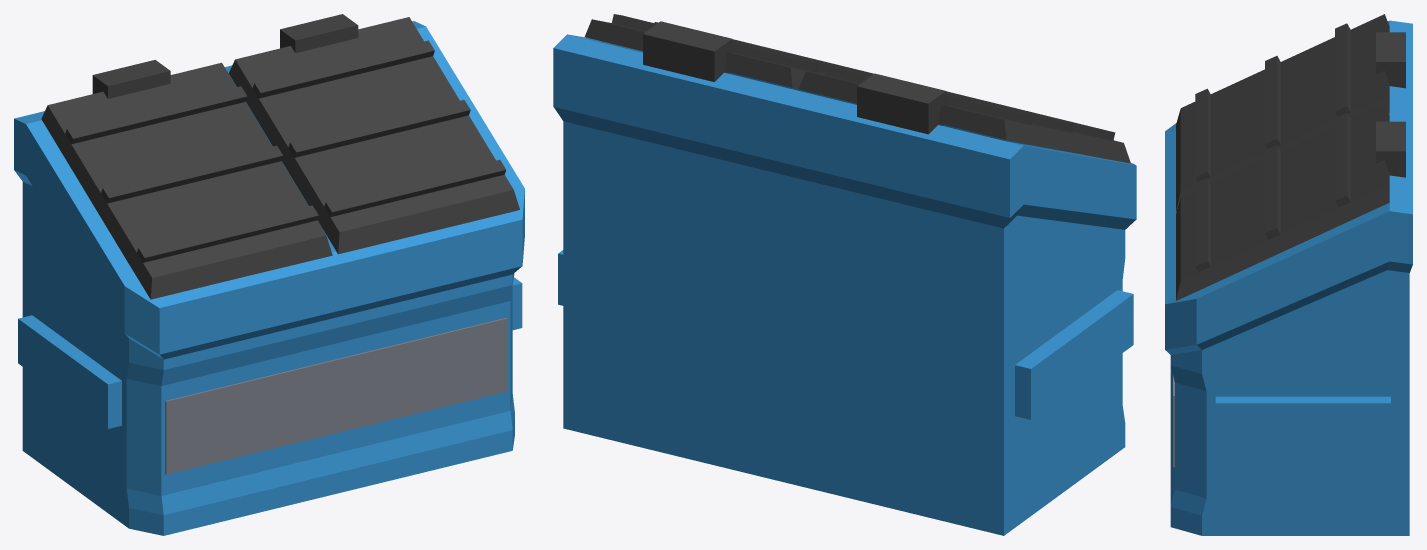
Rendered from Paper.glb.
3 renders of one model, left to right at view 1: azimuth 30°, elevation 25°; view 2: azimuth 150°, elevation 25°; view 3: azimuth 270°, elevation 25°, orthographic. The views are drawn at different scales.
Parts seen in each view (by area): view 1: TrashContainer.001; view 2: TrashContainer.001; view 3: TrashContainer.001.
Part boxes in pixels (bbox=[...]): TrashContainer.001: bbox=[14, 14, 524, 535]; TrashContainer.001: bbox=[553, 14, 1136, 535]; TrashContainer.001: bbox=[1165, 14, 1412, 535].
Size of the model in its own units: 2.44 by 2.03 by 1.3.
